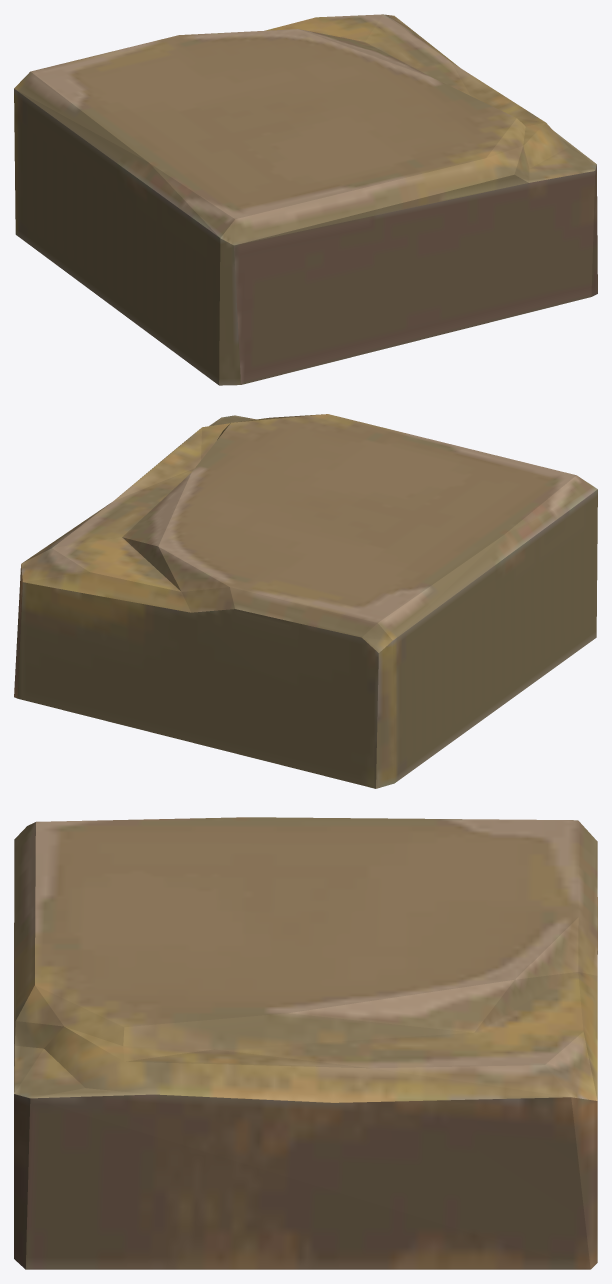
The model's file is S_survive_relic_2.fbx.
3 views of the same model, one above another, from view 1: azimuth 30°, elevation 25°; view 2: azimuth 150°, elevation 25°; view 3: azimuth 270°, elevation 25° (orthographic). The views are drawn at different scales.
Visible parts, largest first — view 1: S_survive_relic_2; view 2: S_survive_relic_2; view 3: S_survive_relic_2.
Part boxes in pixels (bbox=[...]): S_survive_relic_2: bbox=[14, 14, 597, 385]; S_survive_relic_2: bbox=[14, 414, 597, 788]; S_survive_relic_2: bbox=[14, 817, 597, 1269].
Bounding box in the file's own units: 0.9954 × 0.4044 × 0.9954.
Materials: 1 (1 with a texture image).
